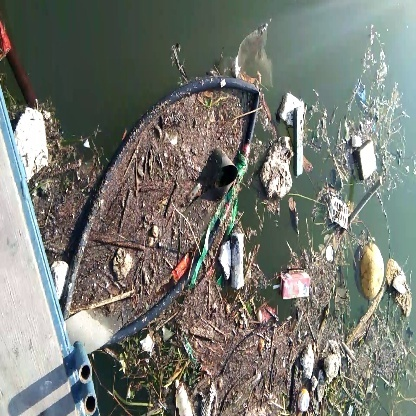milk-box: (274, 265, 315, 303)
